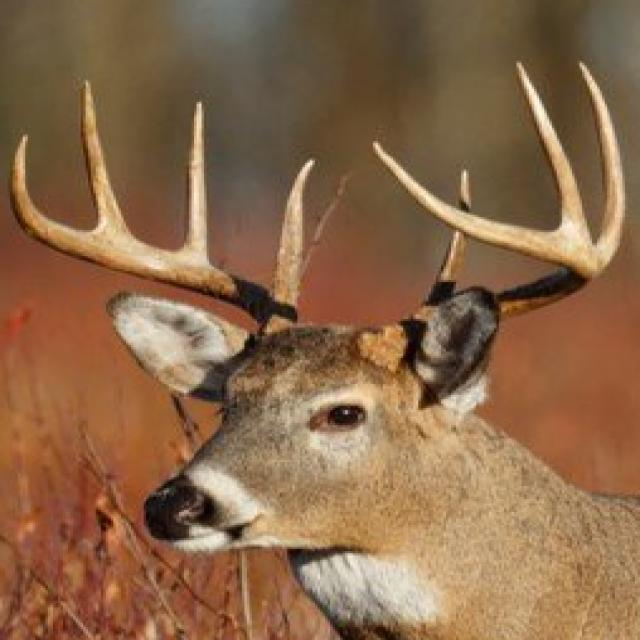R-G1: (271, 158, 315, 307)
R-G2: (180, 99, 208, 257)
R-G3: (81, 80, 132, 234)
